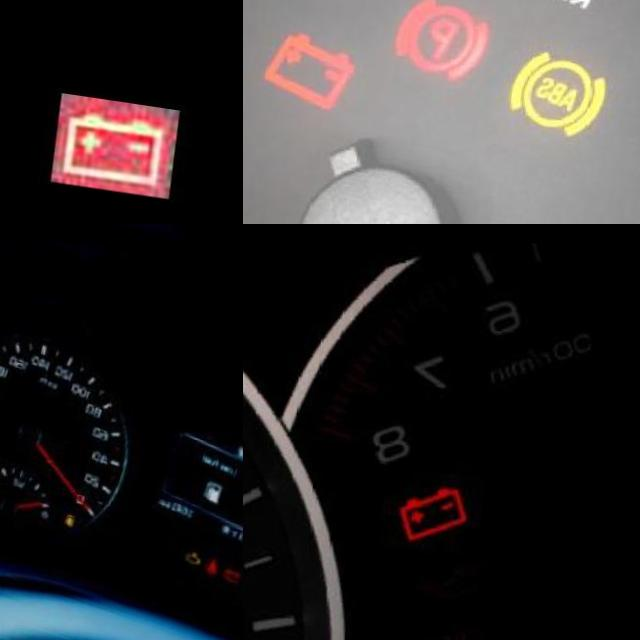Low fuel level: (207, 471, 230, 497), (67, 511, 81, 528)
